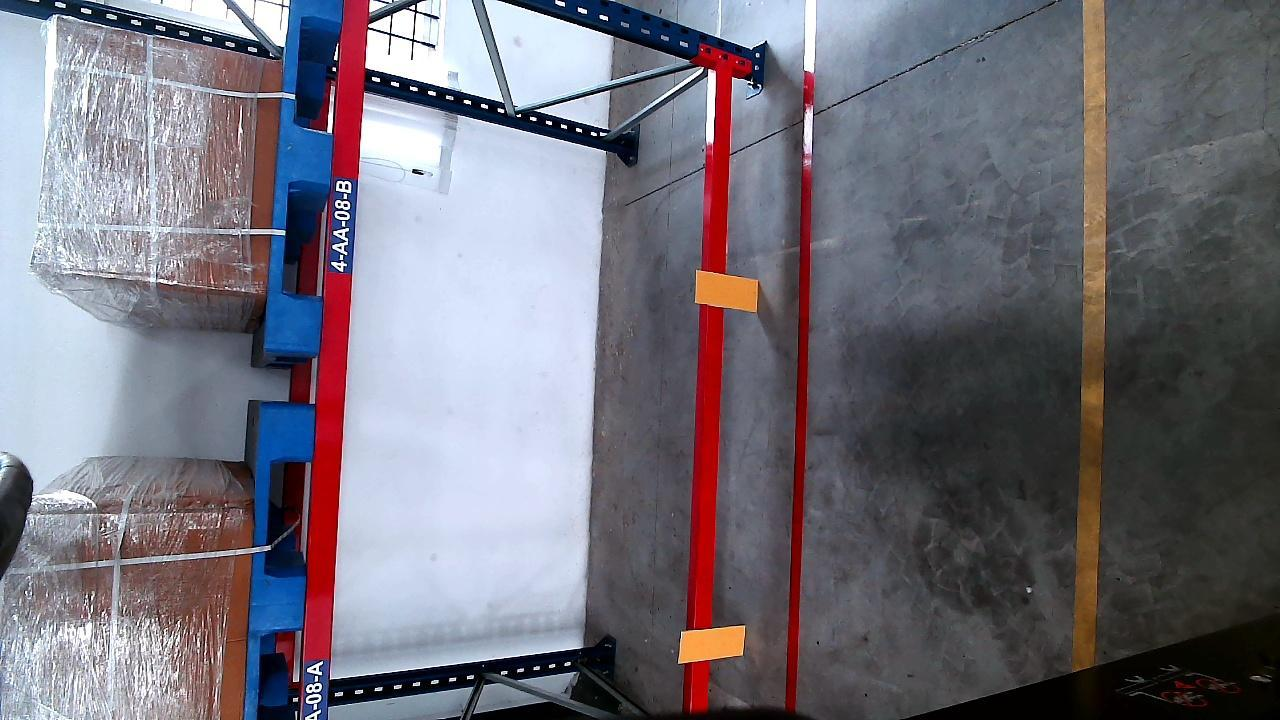red_line: (785, 0, 816, 706)
